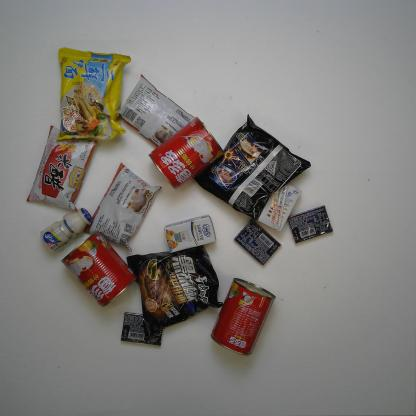Canned Food: (61, 232, 137, 306), (148, 120, 224, 189), (210, 277, 276, 356)
Gum: (235, 219, 281, 266), (287, 205, 334, 243), (120, 311, 164, 347)
Instant Noodles: (194, 116, 310, 219), (126, 243, 226, 331), (56, 45, 132, 143)
Milk: (256, 178, 300, 234), (162, 214, 217, 257), (40, 208, 93, 251)
Seasoner: (114, 74, 197, 155), (25, 124, 100, 212), (87, 162, 162, 246)
